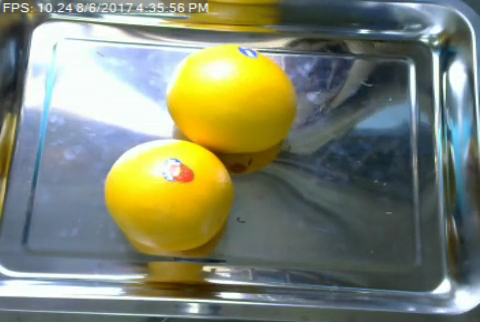Orange: (165, 43, 297, 153), (104, 138, 233, 249)
